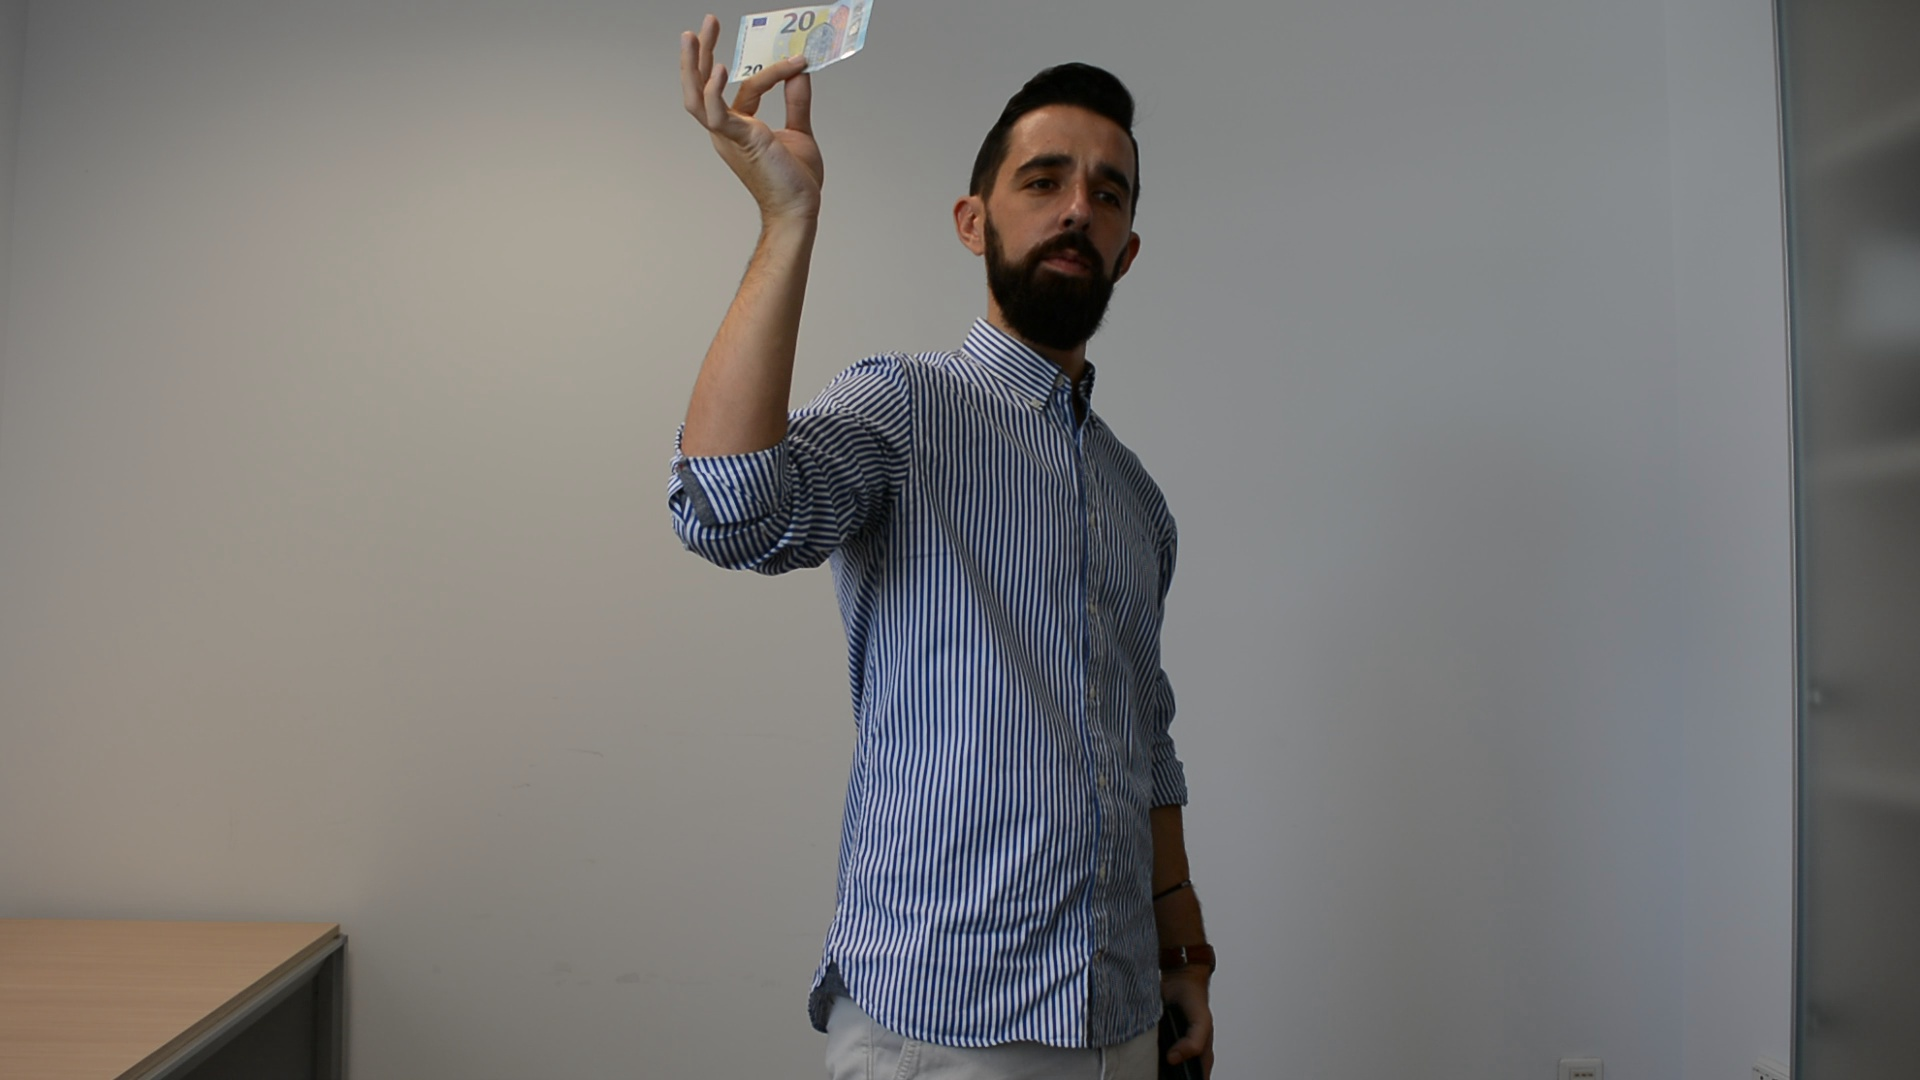billete: (723, 1, 880, 88)
